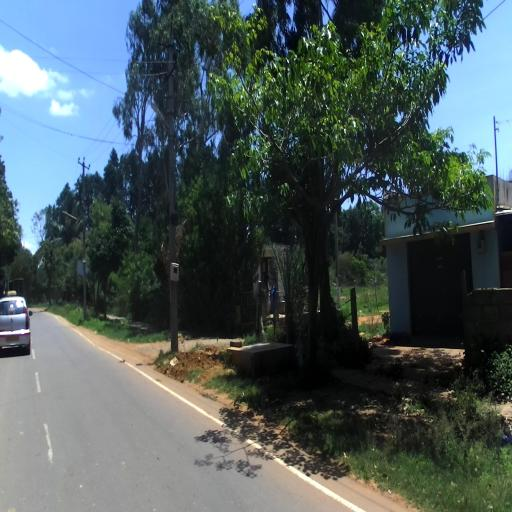street_light_0: (61, 211, 86, 242)
